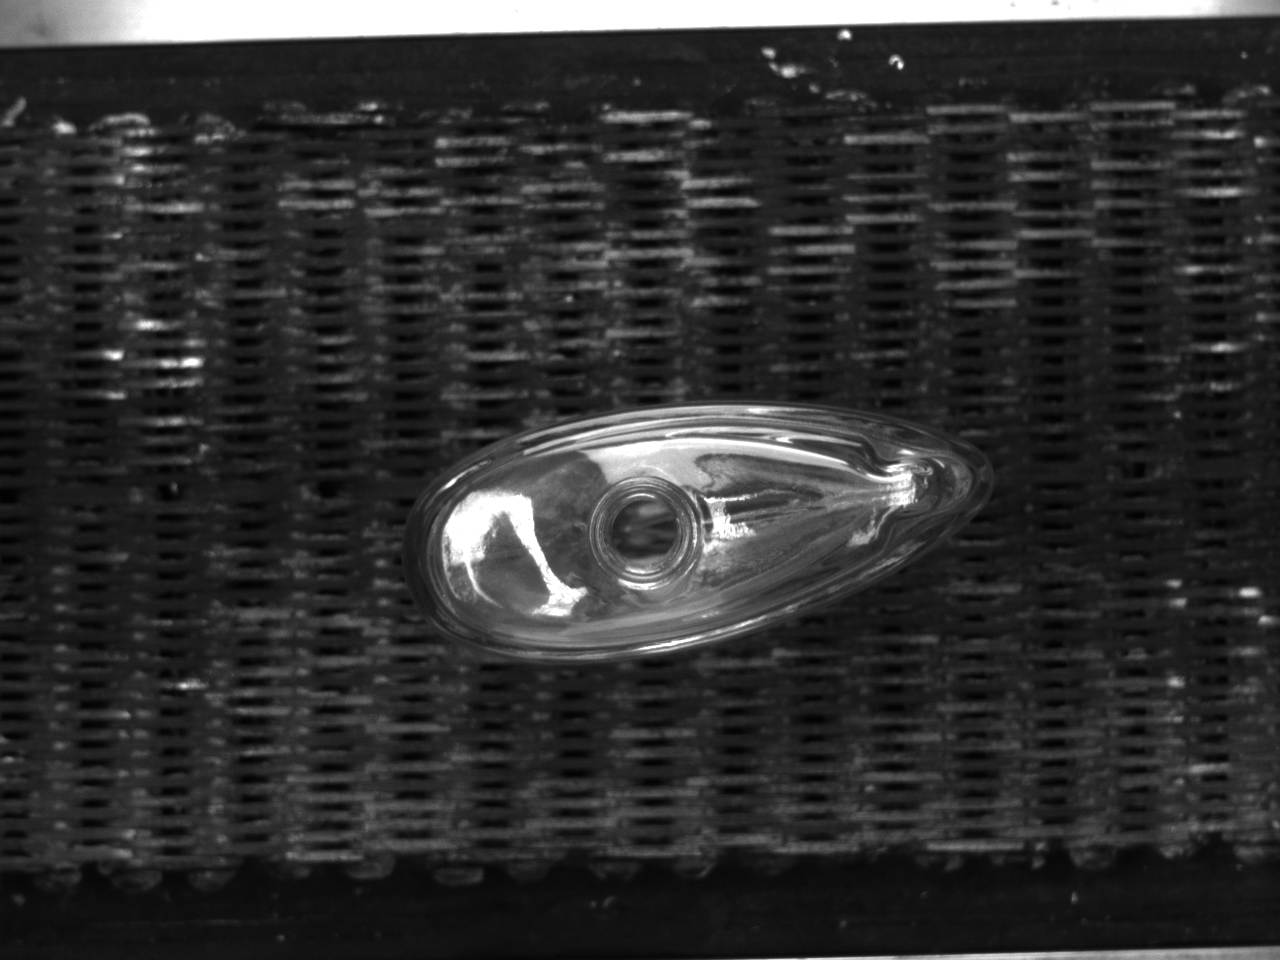bottleneck: (590, 476, 700, 584)
